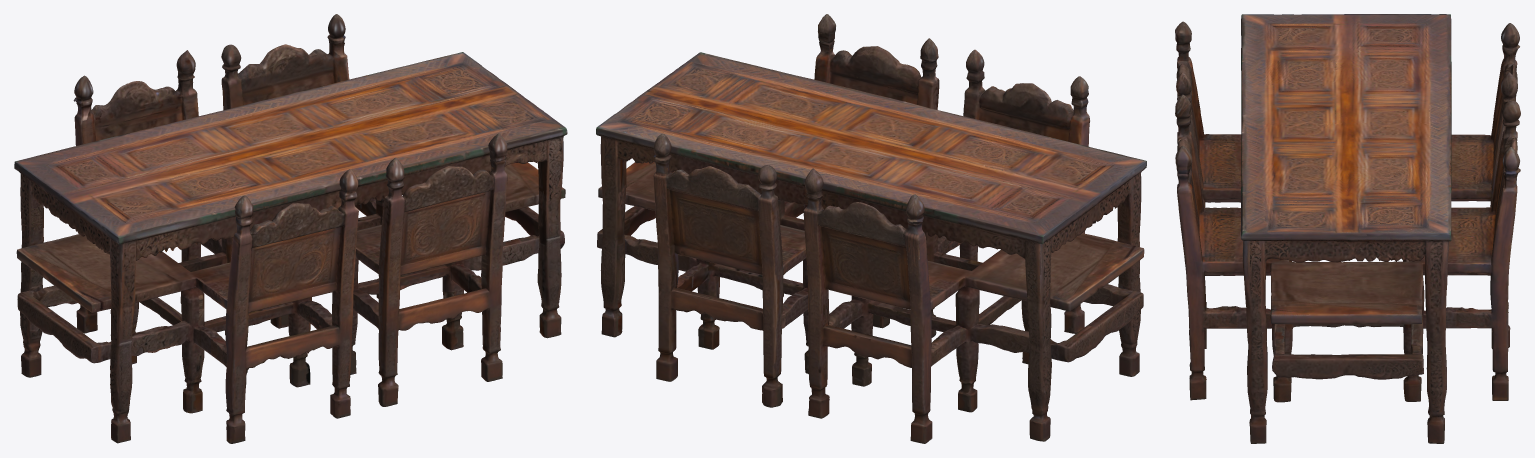
File: Meshy_AI_Ornate_Wooden_Dining__1031072807_texture.glb
The picture shows the model from 3 angles, left to right: view 1: azimuth 30°, elevation 25°; view 2: azimuth 150°, elevation 25°; view 3: azimuth 270°, elevation 25°; orthographic projection.
Bounding box in the file's own units: 2 × 1.01 × 1.26.
1 material, 1 textured.
